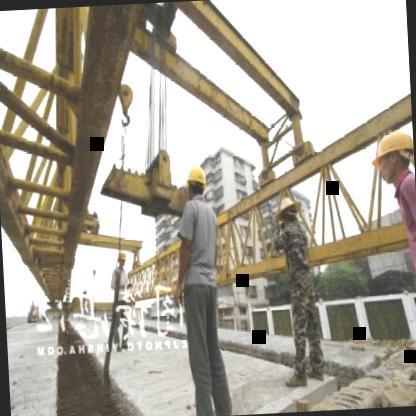helmet: (368, 124, 415, 190), (184, 160, 206, 201), (115, 248, 128, 268)
